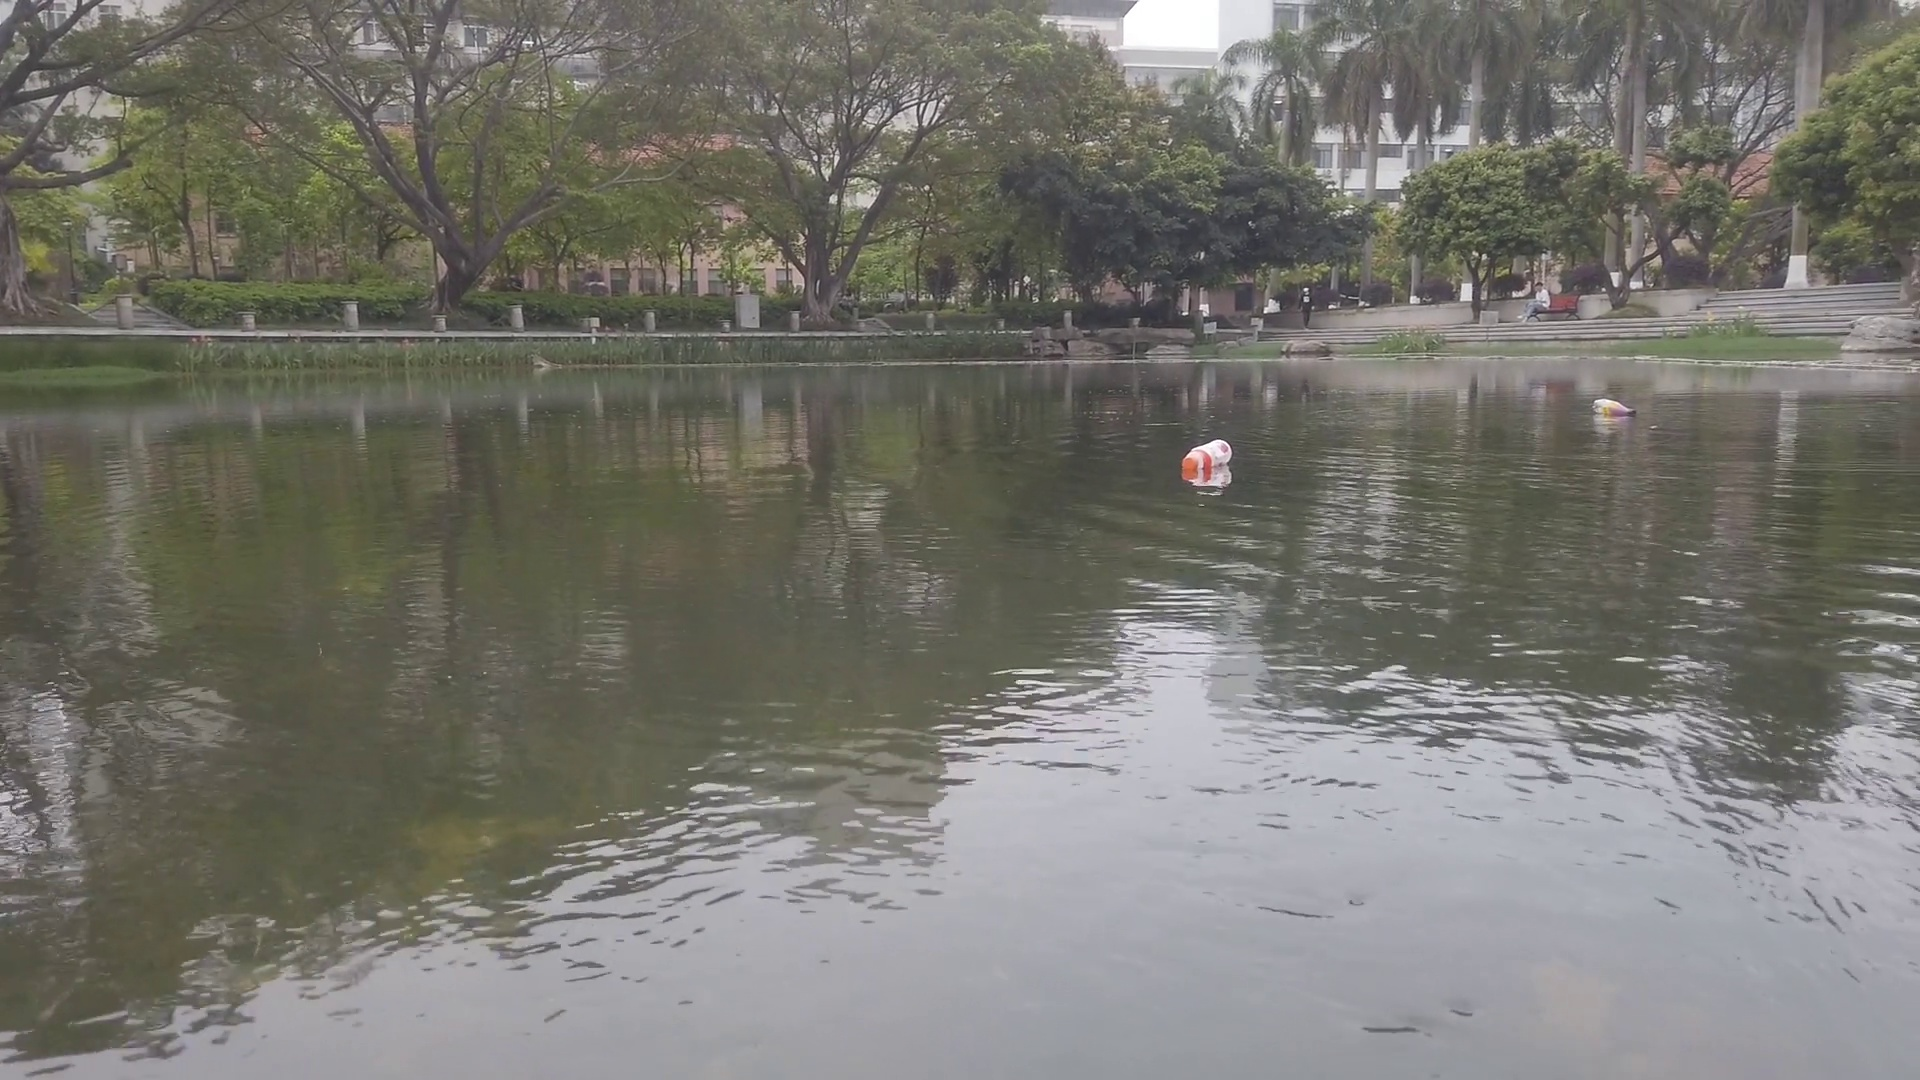bottle: (1182, 438, 1233, 469), (1593, 397, 1639, 419)
